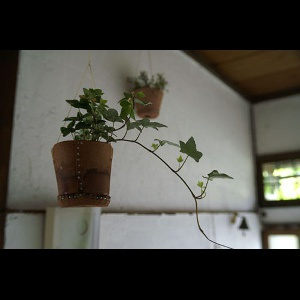flowerpot: (50, 140, 112, 207), (132, 85, 163, 118)
